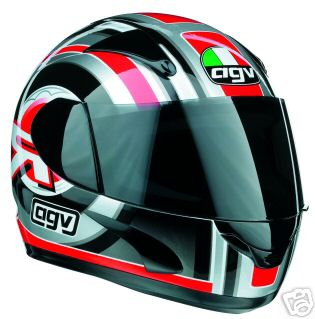helmet: (13, 14, 290, 292)
